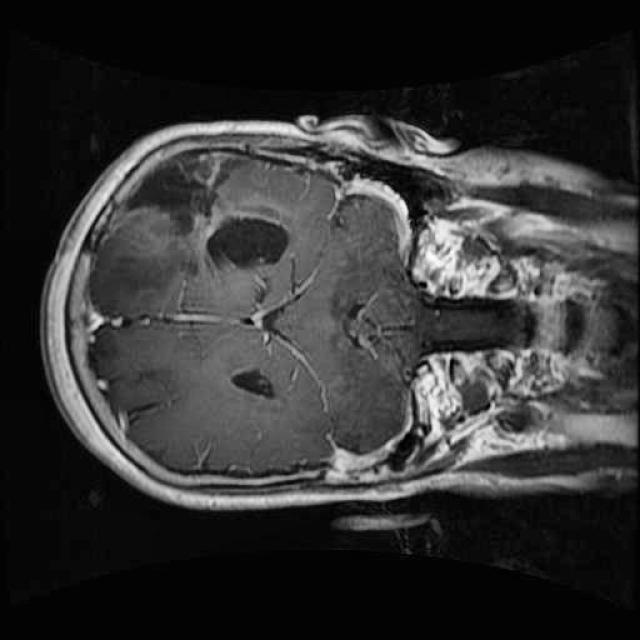Non-Tumor: (105, 129, 254, 264)
